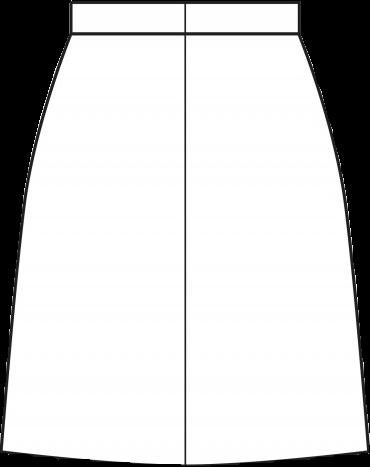Hemline: (0, 446, 369, 466)
Waistline: (70, 29, 300, 37), (70, 0, 300, 6)
